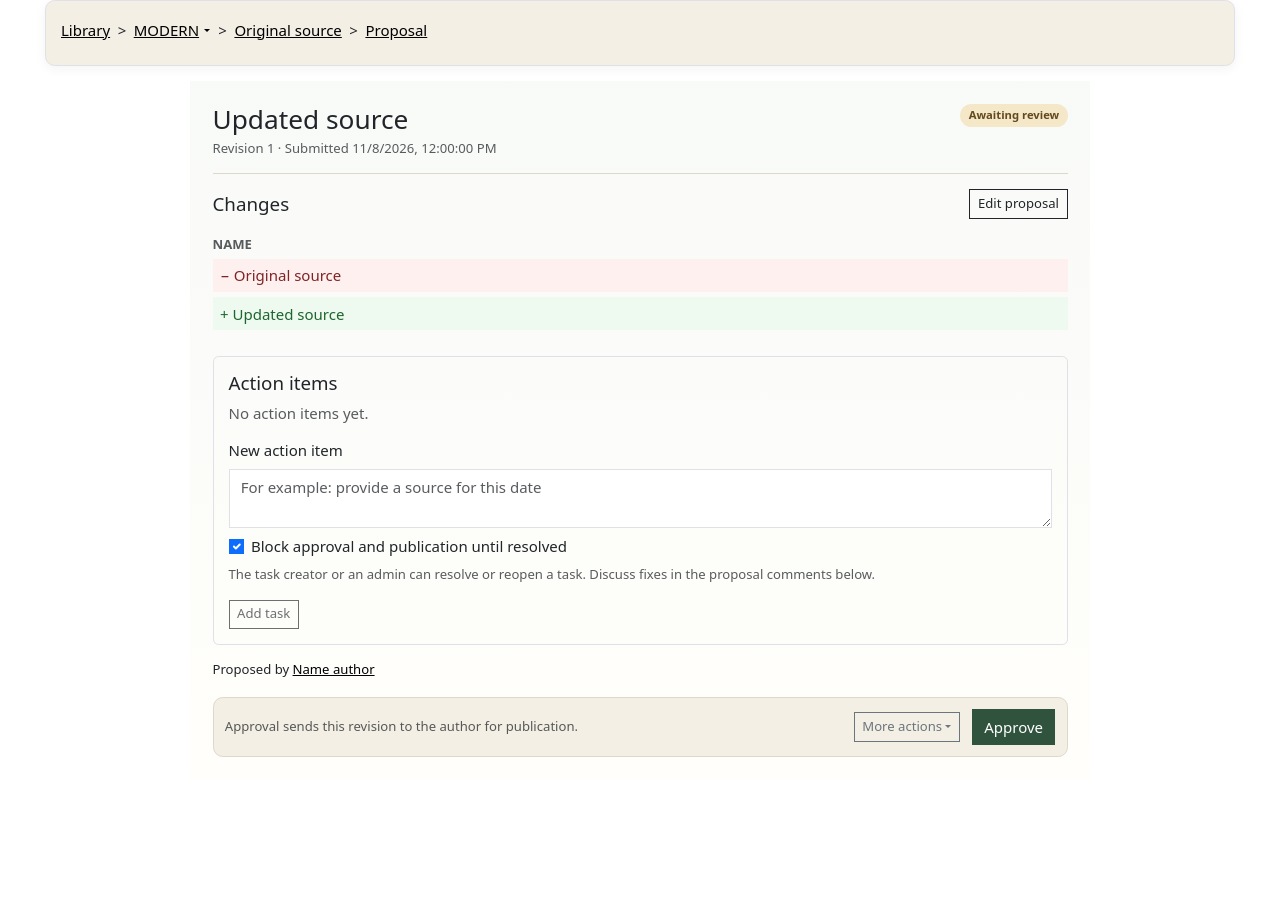
Test: reviewers can add a blocking action item and resolve it before approving
In the text box labelled "New action item": point(640, 498) [228,469,1052,528], type "Provide evidence for the date"
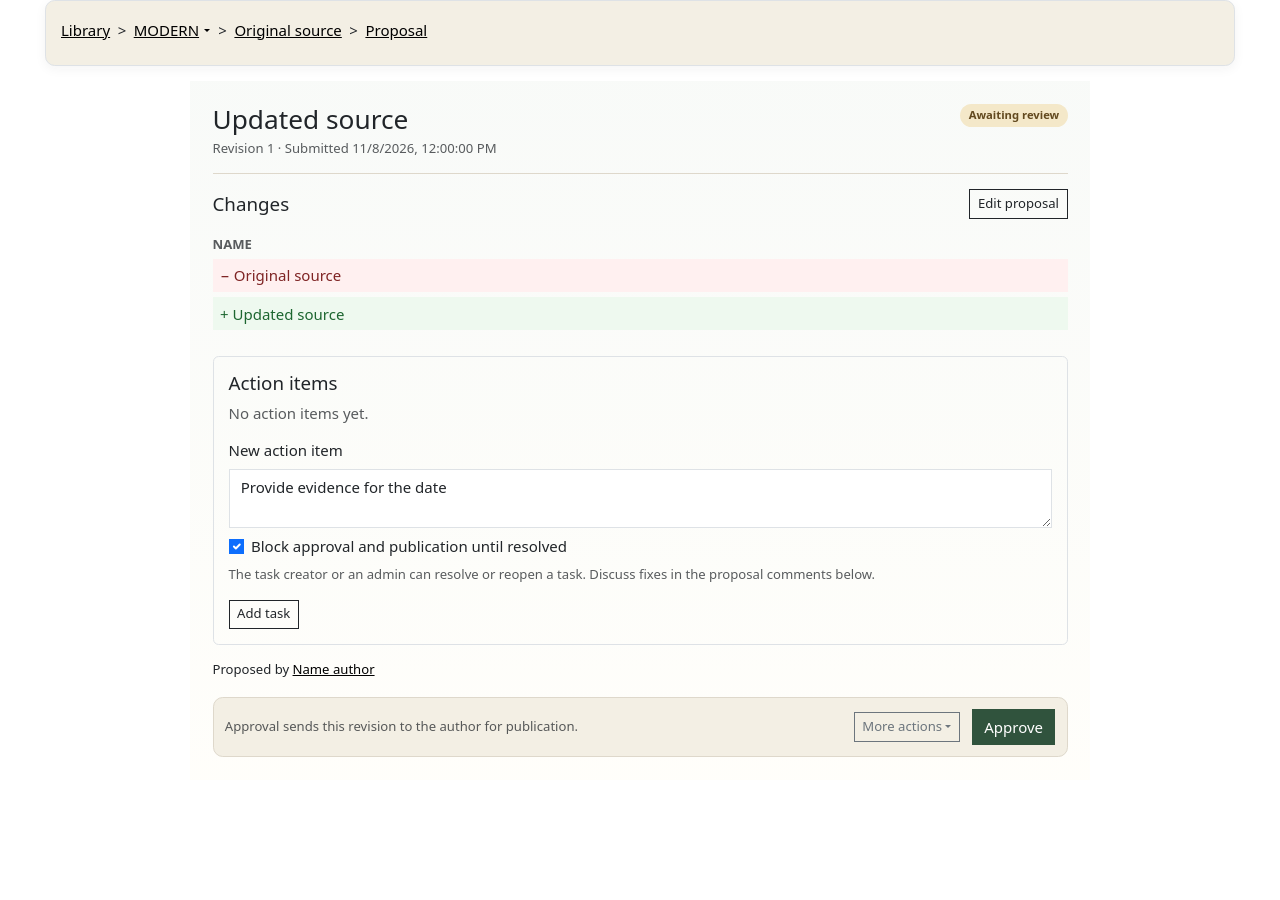
Expected: the checkbox labelled "Block approval and publication until resolved" is checked, [228,539,244,554]
Click the button "Add task": point(264, 614) [228,600,299,629]
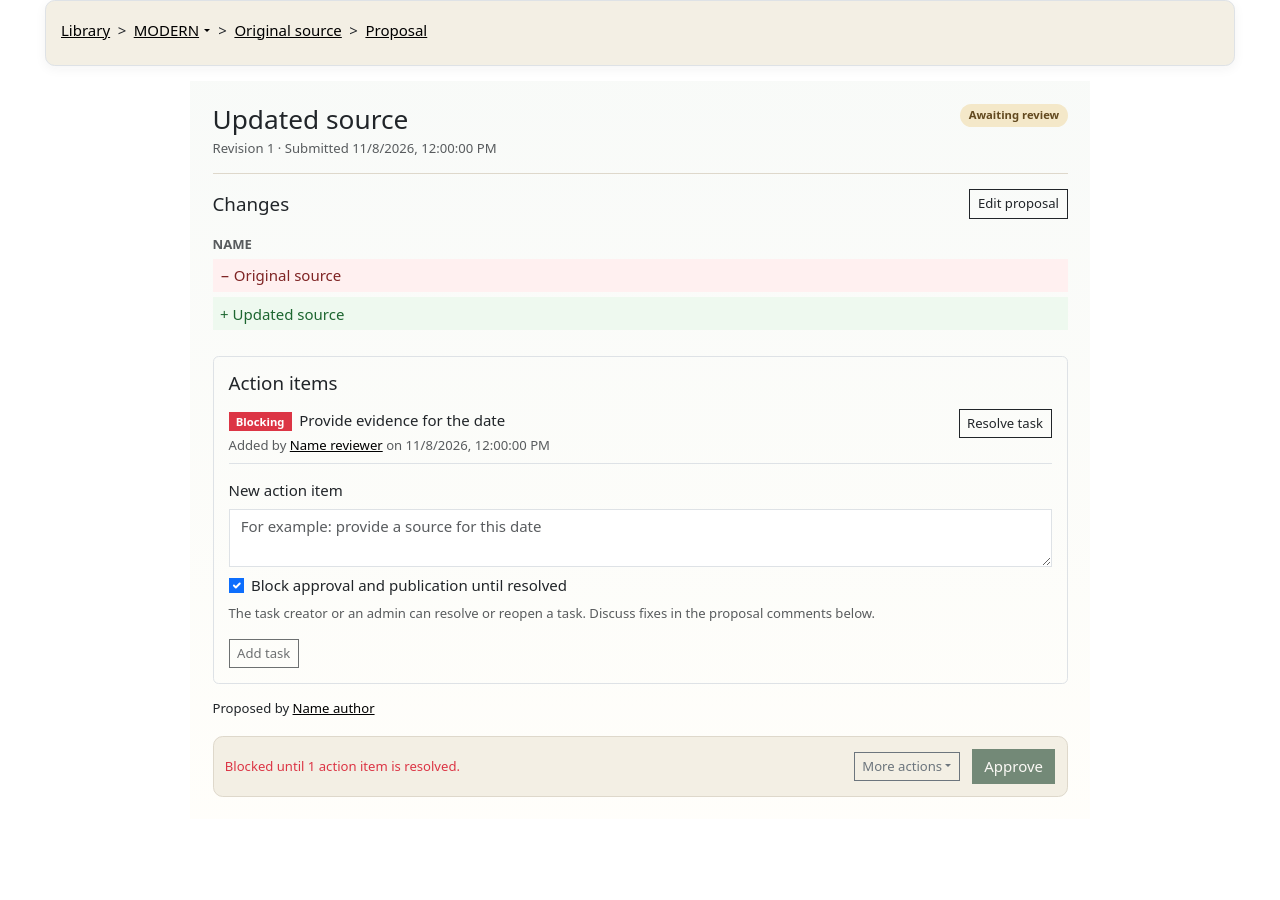
Expected: the text "Provide evidence for the date" is shown, [299,410,505,430]
Expected: the button "Approve" is disabled, [972,748,1055,784]
Expected: the text "Blocked until 1 action item is resolved." is shown, [225,756,460,774]
Click the button "Resolve task": point(1005, 424) [958,409,1052,438]
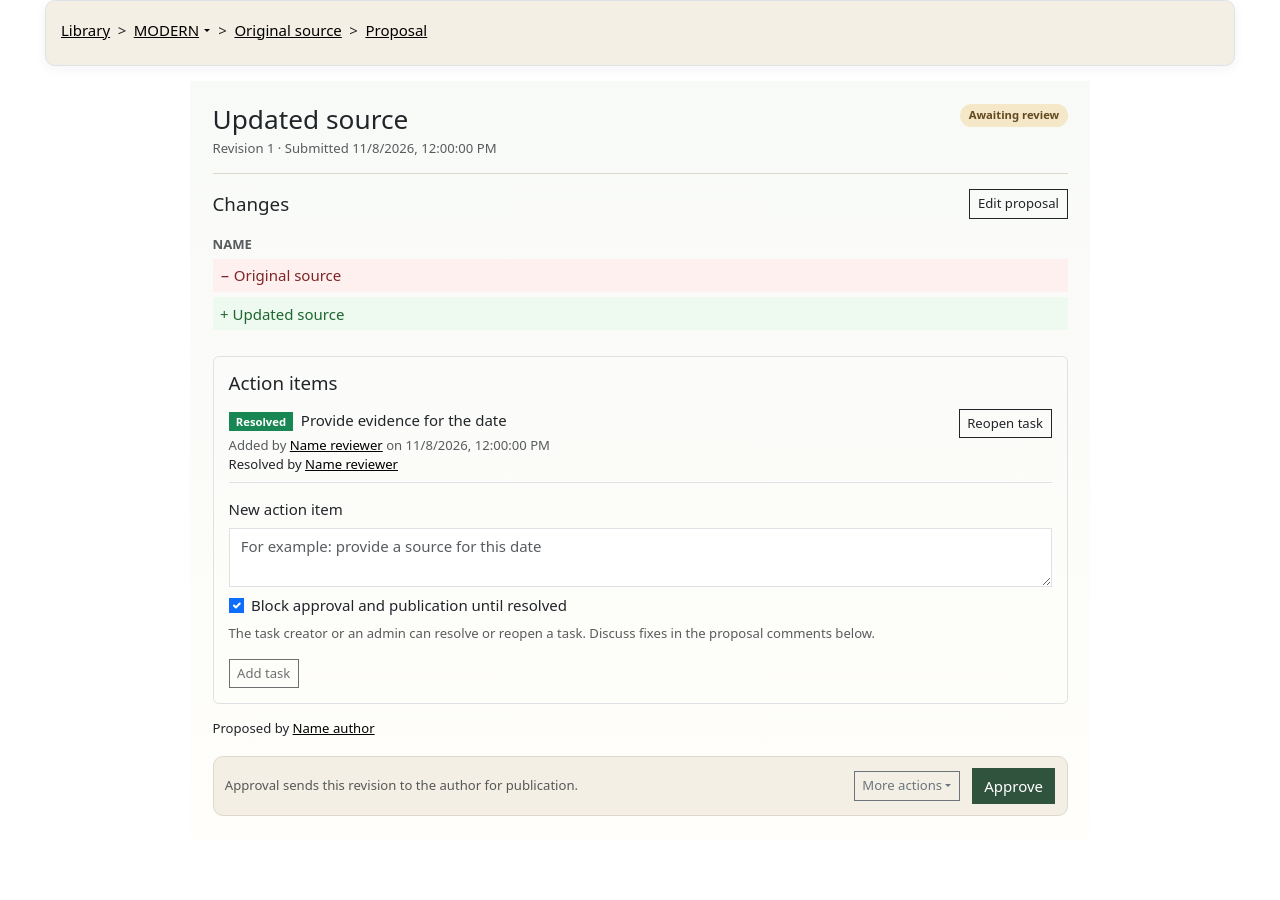
Expected: the text "Resolved" is shown, [228,412,293,431]
Expected: the button "Approve" is enabled, [972,768,1055,804]
